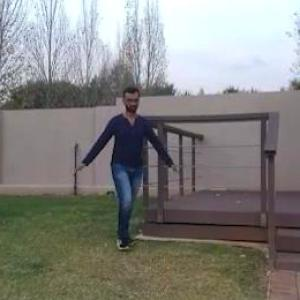land: (70, 74, 186, 272)
